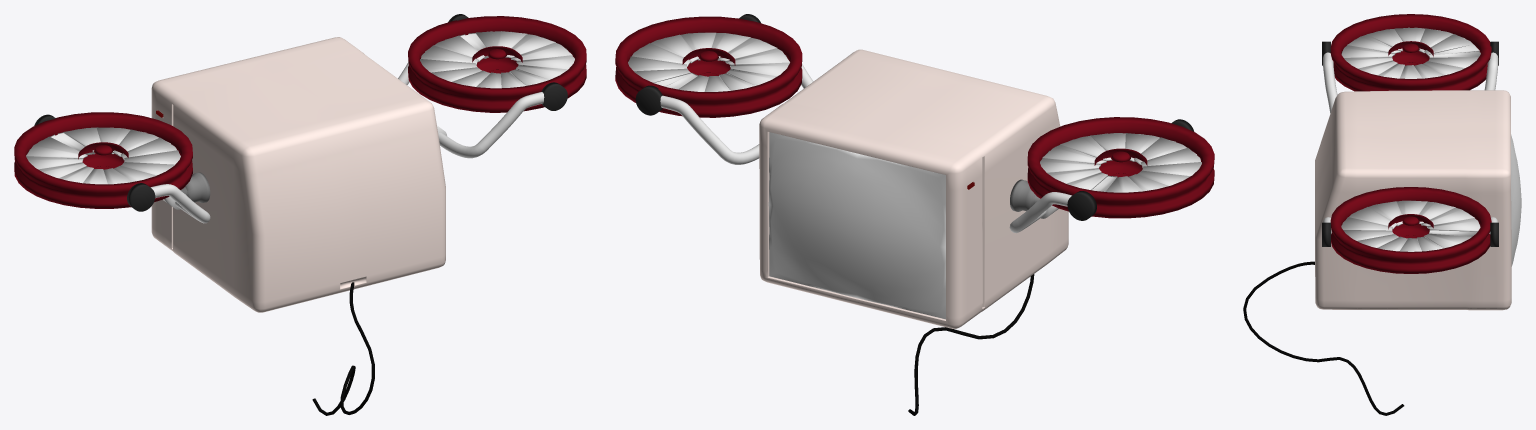
File: robot_drone.glb
The picture shows the model from 3 angles, left to right: view 1: azimuth 30°, elevation 25°; view 2: azimuth 150°, elevation 25°; view 3: azimuth 270°, elevation 25°; orthographic projection. The views are drawn at different scales.
Visible parts, largest first — view 1: Computer Robot, Propeller Protector, Propellers, Propeller Connector, Connectors, Power Chord (To attach to weapon); view 2: Computer Robot, Propeller Protector, Propellers, Propeller Connector, Connectors, Power Chord (To attach to weapon); view 3: Computer Robot, Propeller Protector, Propellers, Power Chord (To attach to weapon), Propeller Connector, Connectors.
Boxes of the visible parts, x1,y1,x2,y2 form: Computer Robot: (151,37,445,312); Propeller Protector: (14,16,586,208); Propellers: (26,31,574,184); Propeller Connector: (150,62,544,223); Connectors: (34,14,567,211); Power Chord (To attach to weapon): (312,282,374,415); Computer Robot: (759,49,1068,328); Propeller Protector: (615,16,1214,218); Propellers: (628,32,1201,192); Propeller Connector: (660,63,1071,233); Connectors: (635,14,1194,220); Power Chord (To attach to weapon): (908,274,1034,415); Computer Robot: (1315,90,1521,310); Propeller Protector: (1330,14,1491,273); Propellers: (1341,27,1480,251); Power Chord (To attach to weapon): (1243,261,1404,415); Propeller Connector: (1323,52,1498,233); Connectors: (1322,41,1498,246).
Bounding box in the file's own units: 7.54 × 4.1 × 3.68.
